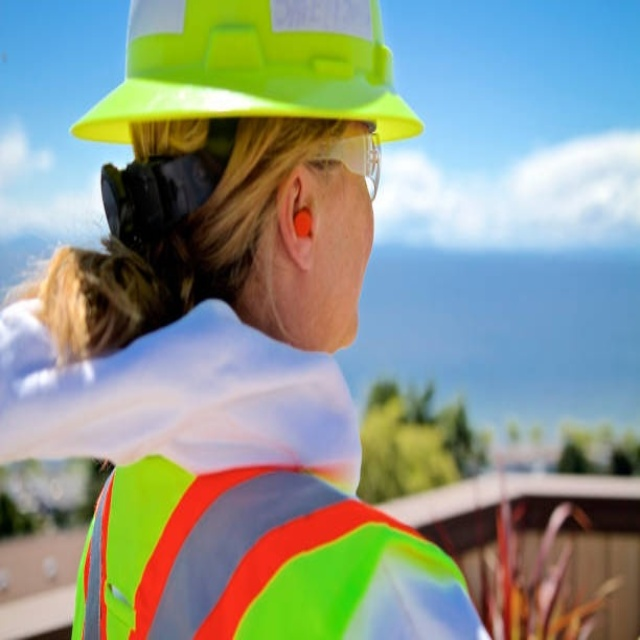Gafas: (301, 125, 384, 201)
Sin_mascara: (306, 209, 385, 340)
